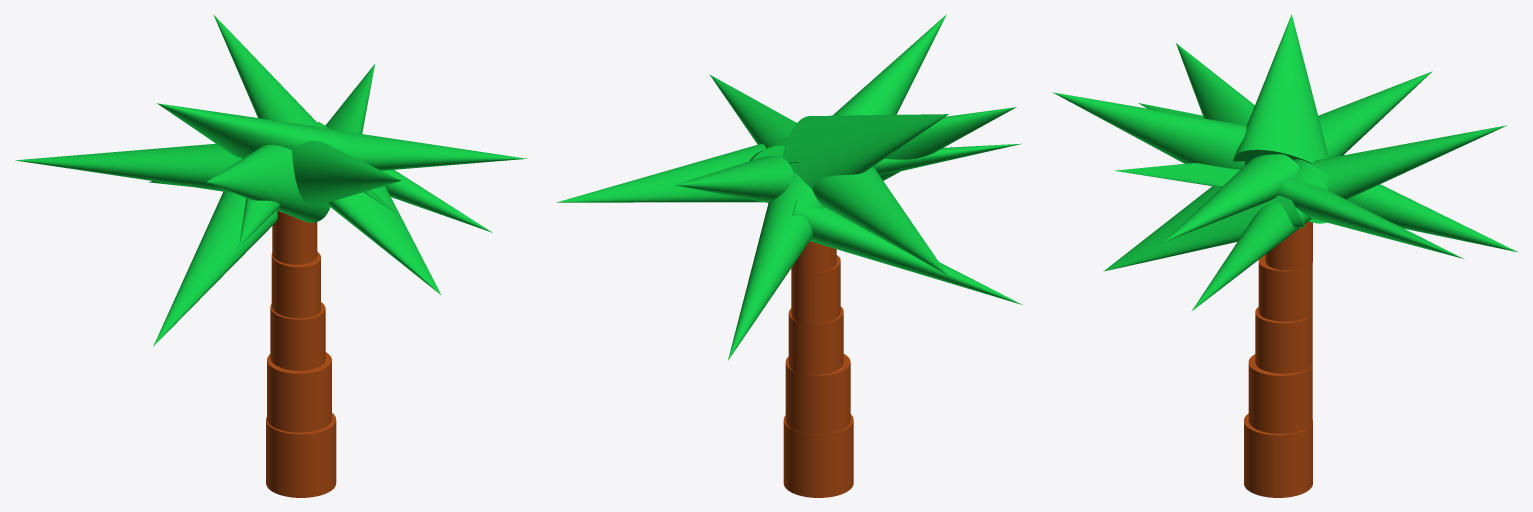
File: Beach_Palm_Tree_2.glb
3 views of the same model, side by side, from view 1: azimuth 30°, elevation 25°; view 2: azimuth 150°, elevation 25°; view 3: azimuth 270°, elevation 25° (orthographic).
Visible parts, largest first — view 1: mesh_id94, mesh_id90, mesh_id27.001, mesh_id57.001, mesh_id48, mesh_id41.001, mesh_id34.001, mesh_id72, mesh_id56, mesh_id93.001, mesh_id33, mesh_id35.001 (+4 smaller); view 2: mesh_id57.001, mesh_id92, mesh_id94, mesh_id27.001, mesh_id90, mesh_id91, mesh_id34.001, mesh_id41.001, mesh_id93.001, mesh_id33, mesh_id35.001, mesh_id48 (+3 smaller); view 3: mesh_id57.001, mesh_id41.001, mesh_id93.001, mesh_id27.001, mesh_id72, mesh_id34.001, mesh_id56, mesh_id67.001, mesh_id91, mesh_id92, mesh_id94, mesh_id33 (+4 smaller).
Boxes of the visible parts, x1,y1,x2,y2 form: mesh_id94: (15, 143, 242, 192); mesh_id90: (153, 191, 277, 346); mesh_id27.001: (266, 413, 336, 497); mesh_id57.001: (157, 103, 344, 158); mesh_id48: (206, 145, 330, 222); mesh_id41.001: (292, 140, 401, 205); mesh_id34.001: (267, 352, 331, 432); mesh_id72: (326, 186, 441, 295); mesh_id56: (333, 129, 526, 170); mesh_id93.001: (213, 14, 317, 126); mesh_id33: (270, 302, 325, 370); mesh_id35.001: (271, 252, 320, 318); mesh_id57.001: (782, 114, 948, 189); mesh_id92: (728, 171, 825, 360); mesh_id94: (812, 167, 947, 275); mesh_id27.001: (783, 414, 853, 497); mesh_id90: (792, 199, 1022, 304); mesh_id91: (556, 143, 766, 202); mesh_id34.001: (785, 354, 850, 434); mesh_id41.001: (832, 14, 946, 115); mesh_id93.001: (674, 155, 792, 202); mesh_id33: (788, 306, 843, 375); mesh_id35.001: (791, 255, 840, 324); mesh_id48: (880, 107, 1016, 180); mesh_id57.001: (1233, 14, 1328, 165); mesh_id41.001: (1052, 92, 1246, 169); mesh_id93.001: (1310, 125, 1506, 199); mesh_id27.001: (1244, 413, 1312, 497); mesh_id72: (1103, 186, 1304, 271); mesh_id34.001: (1248, 354, 1312, 433); mesh_id56: (1164, 154, 1299, 241); mesh_id67.001: (1191, 159, 1328, 311); mesh_id91: (1278, 179, 1463, 258); mesh_id92: (1347, 184, 1517, 252); mesh_id94: (1318, 71, 1432, 157); mesh_id33: (1255, 307, 1312, 373).
Bounding box in the file's own units: 0.8862 × 0.9178 × 0.9637.
11 materials, 11 textured.
